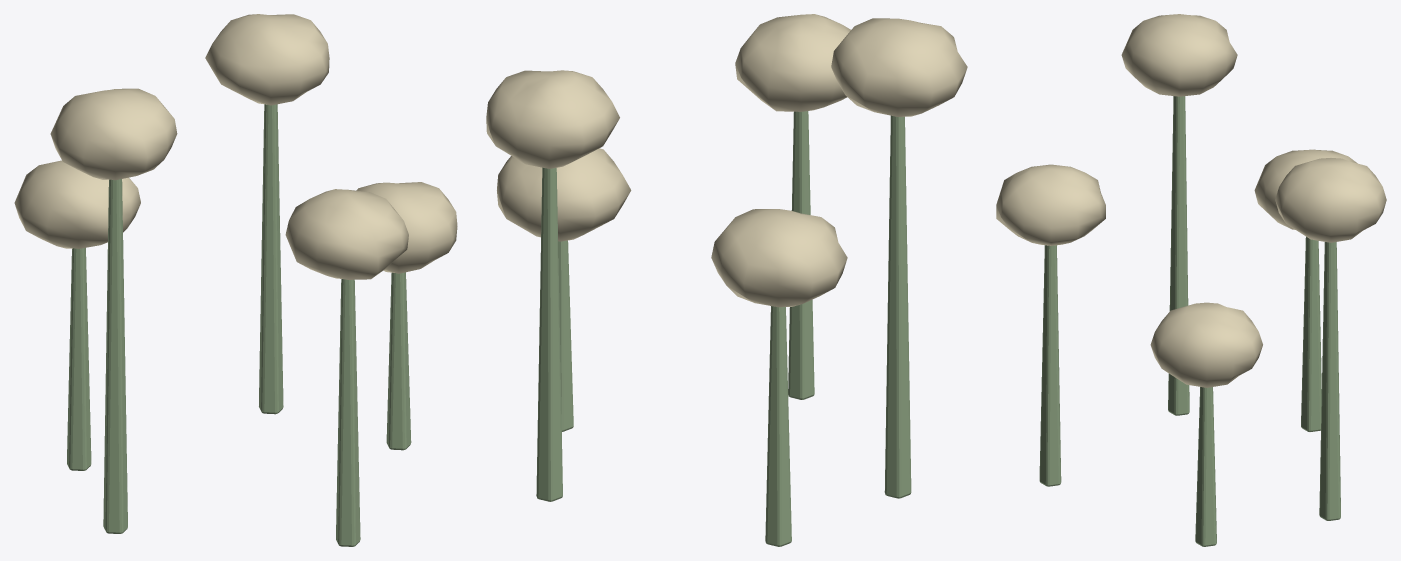
File: SM_Wildflower_UV10816.fbx
3 views of the same model, side by side, from view 1: azimuth 30°, elevation 25°; view 2: azimuth 150°, elevation 25°; view 3: azimuth 270°, elevation 25° (orthographic). The views are drawn at different scales.
Parts seen in each view (by area): view 1: SM_Wildflower_UV10816; view 2: SM_Wildflower_UV10816; view 3: SM_Wildflower_UV10816.
Boxes of the visible parts, box(x1,y1,x2,y2) form: SM_Wildflower_UV10816: box(14, 14, 457, 546); SM_Wildflower_UV10816: box(486, 14, 967, 546); SM_Wildflower_UV10816: box(996, 14, 1386, 546).
Bounding box in the file's own units: 67.8 × 62.44 × 69.04.
